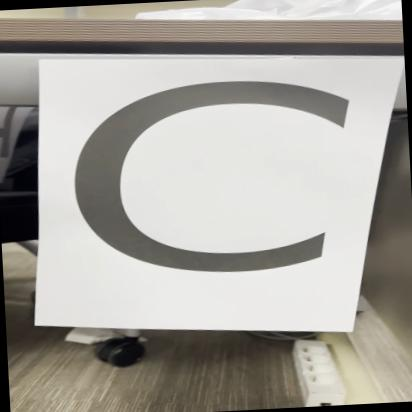seat: (52, 42, 374, 343)
